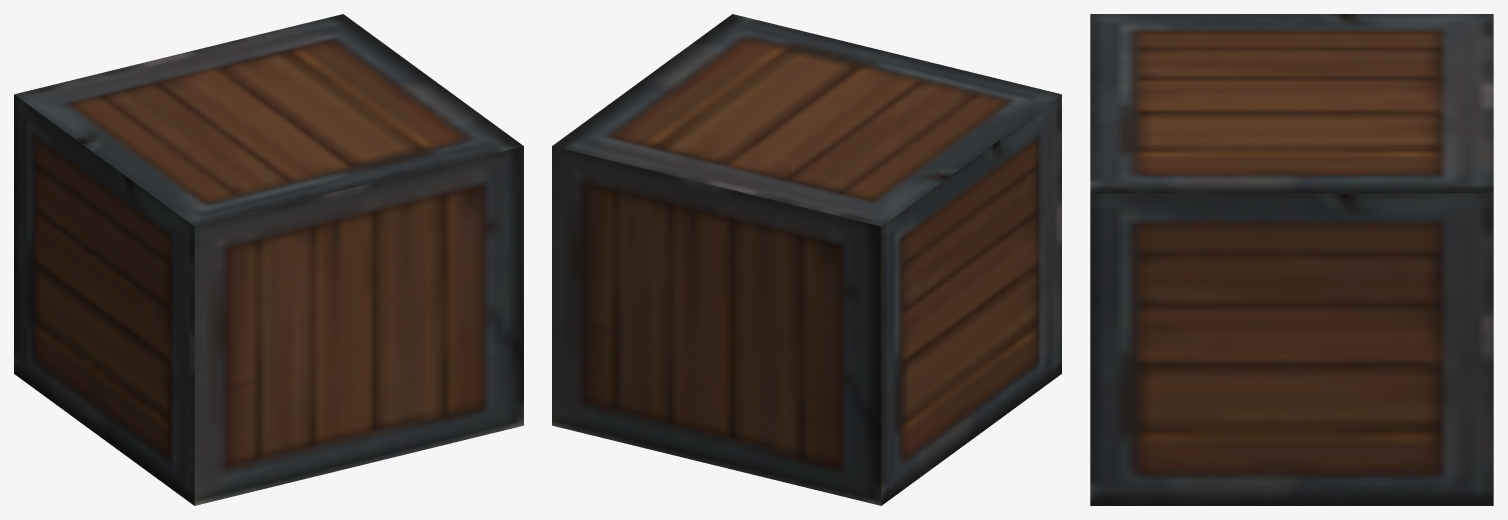
File: 2_YiZhan_ZaWu_MuXiang_01.FBX
3 renders of one model, left to right at view 1: azimuth 30°, elevation 25°; view 2: azimuth 150°, elevation 25°; view 3: azimuth 270°, elevation 25°, orthographic. The views are drawn at different scales.
Parts seen in each view (by area): view 1: 2_YiZhan_ZaWu_MuXiang_01; view 2: 2_YiZhan_ZaWu_MuXiang_01; view 3: 2_YiZhan_ZaWu_MuXiang_01.
Part boxes in pixels (x1=…): 2_YiZhan_ZaWu_MuXiang_01: x1=14, y1=14, x2=523, y2=505; 2_YiZhan_ZaWu_MuXiang_01: x1=552, y1=14, x2=1061, y2=505; 2_YiZhan_ZaWu_MuXiang_01: x1=1090, y1=14, x2=1493, y2=505.
Bounding box in the file's own units: 80.89 × 65.62 × 76.78.
